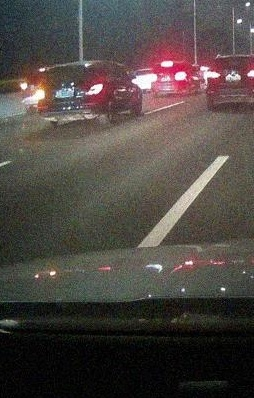L_light: (36, 89, 46, 100), (207, 72, 220, 78), (151, 74, 157, 81)
R_light: (85, 83, 103, 96), (175, 72, 186, 79), (247, 69, 253, 77)
T_light: (161, 63, 172, 67), (231, 57, 241, 60), (66, 68, 77, 70)
night-brake: (151, 62, 188, 97)
night-left: (36, 62, 106, 129)
night-no: (206, 56, 254, 110)
